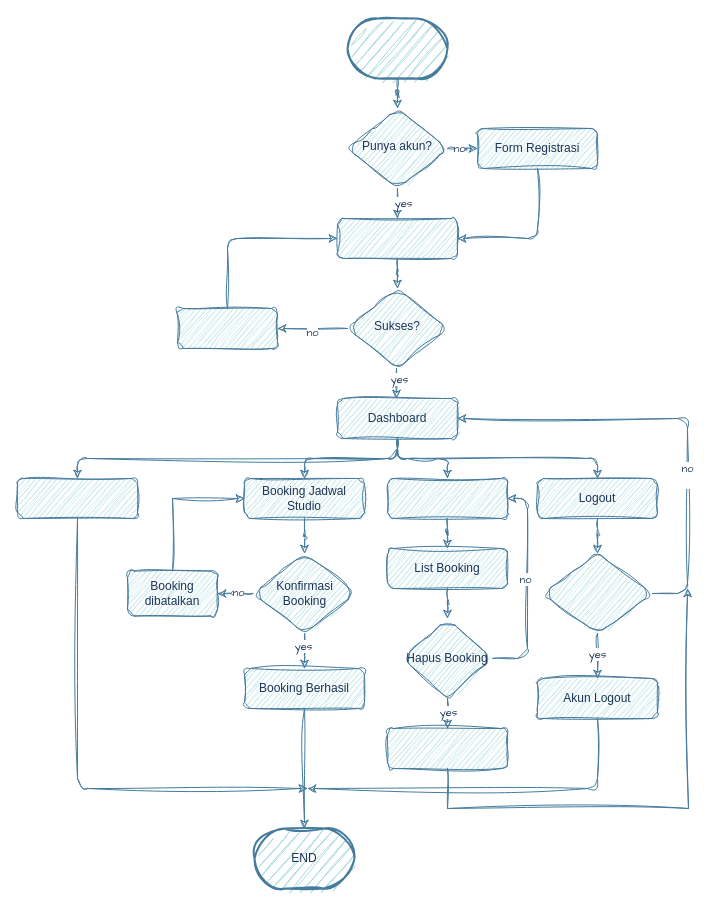
Image size: 714x906. Some labels were removed from this diagram. Here are the shapes that lost their labels. From the top down, the centre of each, then its label:
At (x=397, y=48): "START".
At (x=397, y=238): "Login".
At (x=227, y=328): "Pesan Gagal Login".
At (x=77, y=498): "Cek Jadwal Studi o".
At (x=447, y=498): "Riwayat Booking".
At (x=597, y=593): "yakin logout?".
At (x=447, y=748): "Booking Terhapus".
